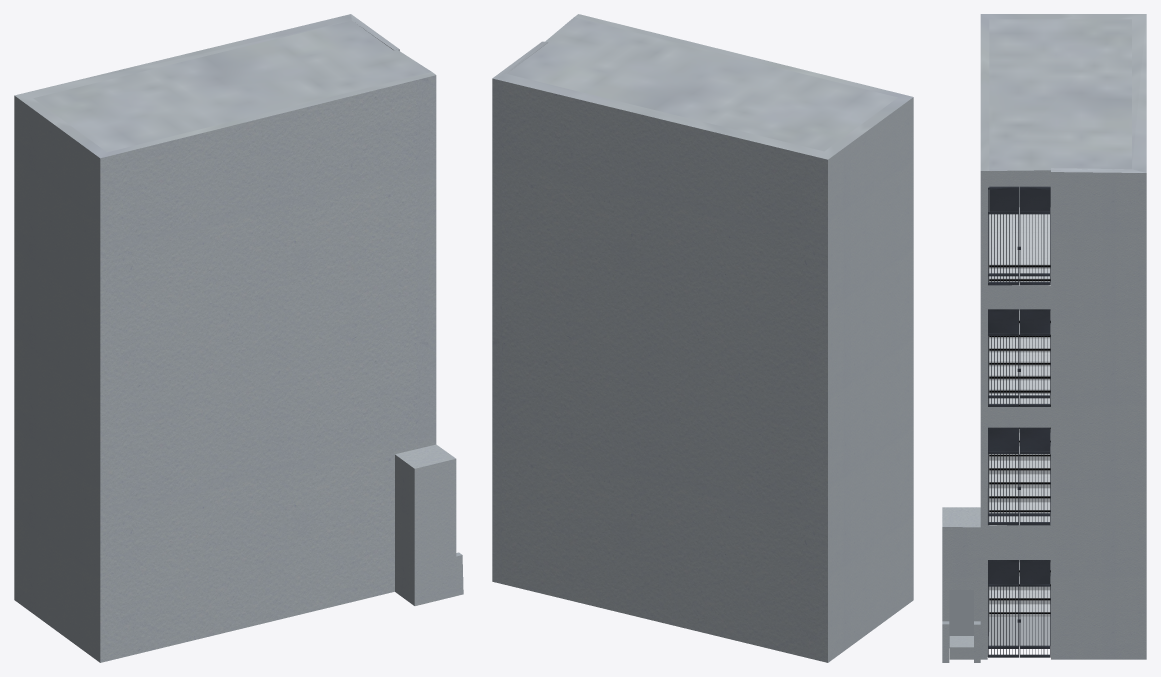
Rendered from FACU-EOP.glb.
The picture shows the model from 3 angles, left to right: view 1: azimuth 30°, elevation 25°; view 2: azimuth 150°, elevation 25°; view 3: azimuth 270°, elevation 25°; orthographic projection. The views are drawn at different scales.
Parts seen in each view (by area): view 1: Paredes_PB.003; view 2: Paredes_PB.003; view 3: Paredes_PB.003, BarandalEscaleras_B, Escaleras_B, LINEASNEGRASESCALERAS3.003.
Boxes of the visible parts, box(x1,y1,x2,y2) form: Paredes_PB.003: box(14, 14, 463, 662); Paredes_PB.003: box(492, 14, 913, 662); Paredes_PB.003: box(942, 14, 1146, 662); BarandalEscaleras_B: box(988, 186, 1050, 657); Escaleras_B: box(989, 207, 1050, 616); LINEASNEGRASESCALERAS3.003: box(989, 265, 1050, 613).
Size of the model in its own units: 0.1019 by 0.1445 by 0.0544.
4 materials, 3 textured.
